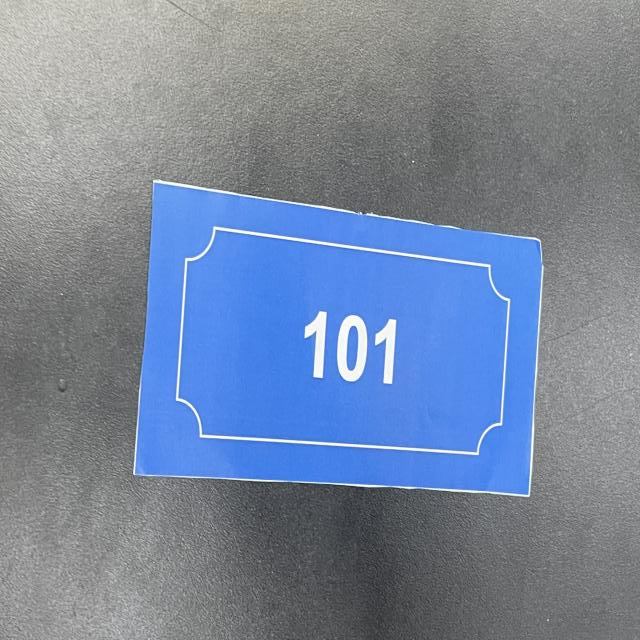Card: (130, 103, 474, 560)
